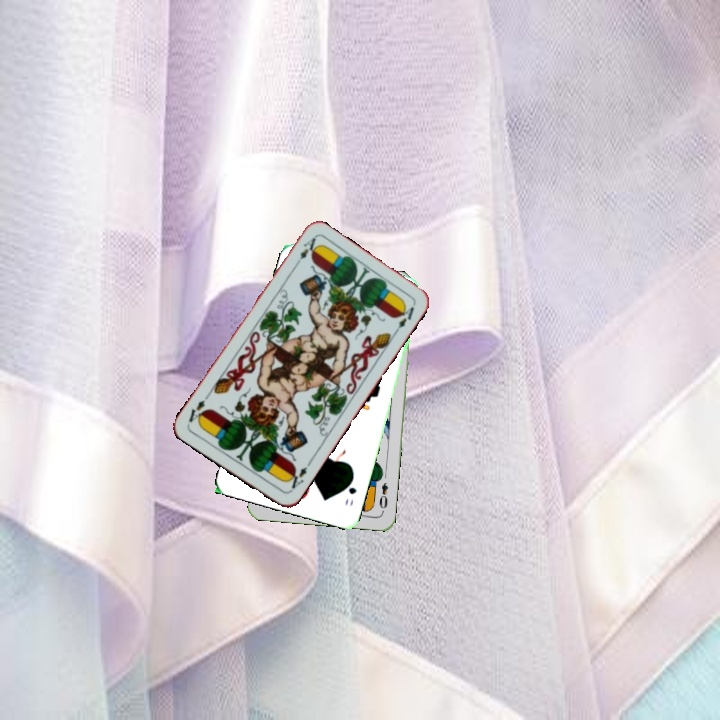EA: (283, 457, 313, 494), (291, 233, 319, 270)
EO: (375, 478, 391, 511)
GO: (341, 472, 359, 508)
